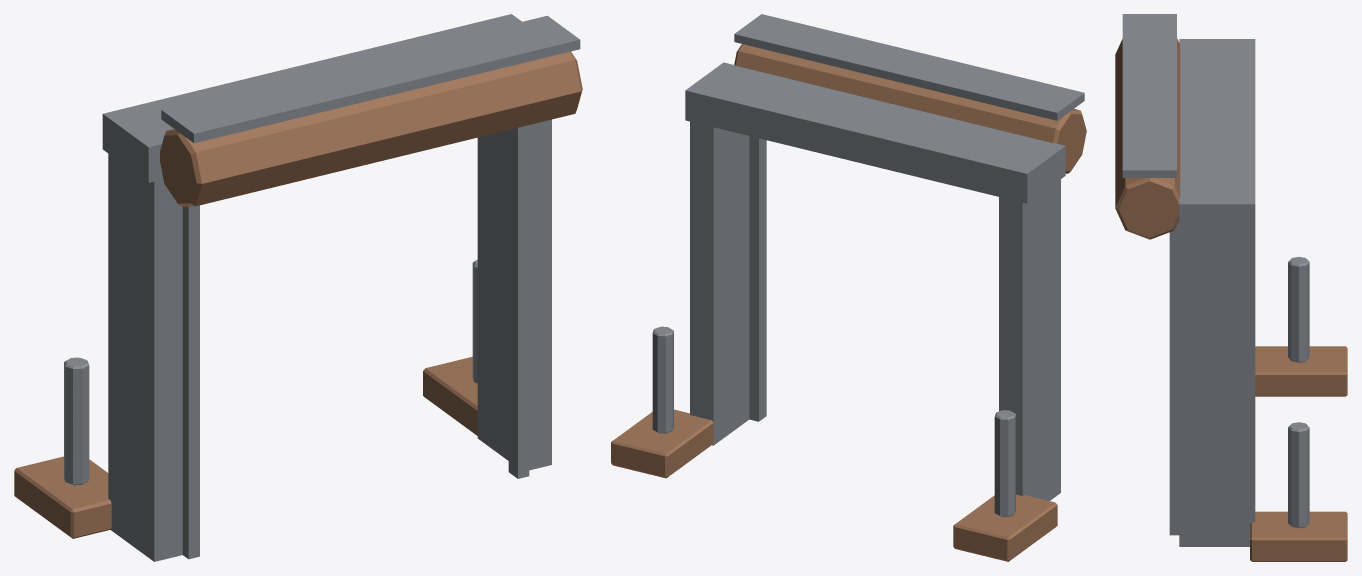
File: mk_door_metal.glb
3 views of the same model, side by side, from view 1: azimuth 30°, elevation 25°; view 2: azimuth 150°, elevation 25°; view 3: azimuth 270°, elevation 25° (orthographic). The views are drawn at different scales.
Visible parts, largest first — view 1: mk_door_metal_mesh; view 2: mk_door_metal_mesh; view 3: mk_door_metal_mesh.
Boxes of the visible parts, bbox=[...] form: mk_door_metal_mesh: bbox=[14, 14, 582, 561]; mk_door_metal_mesh: bbox=[611, 14, 1086, 561]; mk_door_metal_mesh: bbox=[1115, 14, 1347, 561].
Size of the model in its own units: 4.2 by 3.8 by 2.14.
